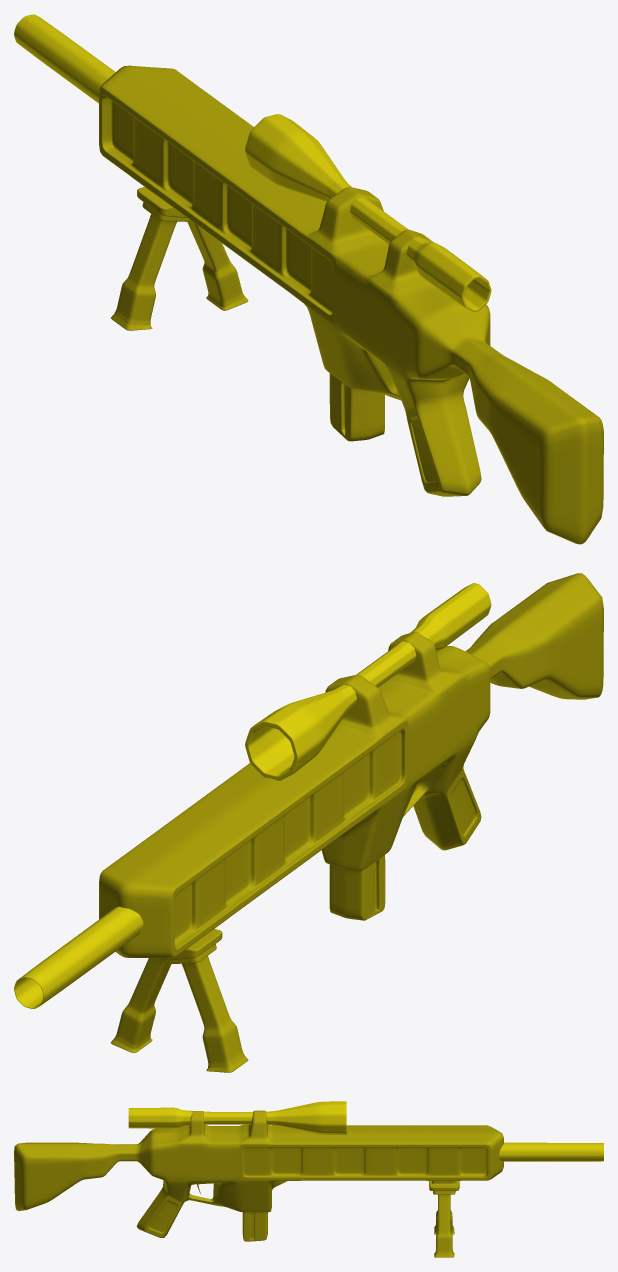
The model's file is SniperYellow.fbx.
The picture shows the model from 3 angles, top to bottom: view 1: azimuth 30°, elevation 25°; view 2: azimuth 150°, elevation 25°; view 3: azimuth 270°, elevation 25°; orthographic projection. The views are drawn at different scales.
Parts seen in each view (by area): view 1: Body, Sight, barrel; view 2: Body, Sight, barrel; view 3: Body, Sight, barrel.
Part boxes in pixels (x1,y1,x2,y2): Body: [99, 65, 603, 544]; Sight: [245, 114, 491, 311]; barrel: [14, 14, 115, 103]; Body: [99, 573, 603, 1072]; Sight: [245, 583, 491, 780]; barrel: [14, 906, 143, 1008]; Body: [14, 1110, 503, 1257]; Sight: [128, 1101, 346, 1135]; barrel: [499, 1142, 603, 1161].
Bounding box in the file's own units: 1.58 × 3.28 × 12.42.
